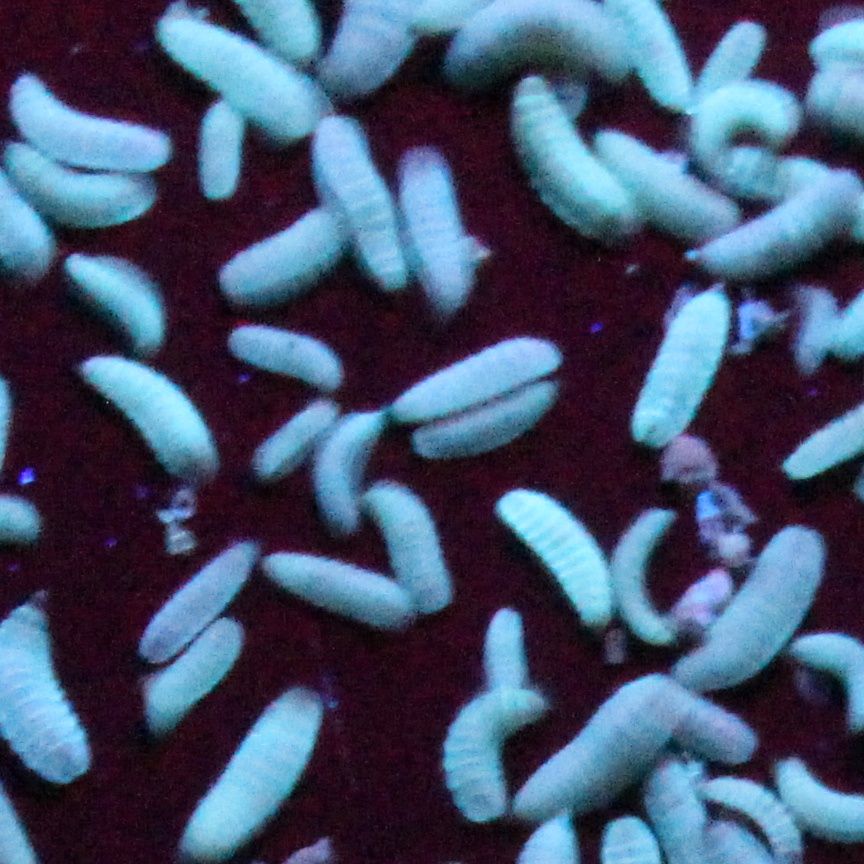larve: (180, 687, 323, 860), (513, 677, 680, 825), (688, 520, 829, 681), (160, 13, 327, 136), (517, 74, 621, 238), (88, 354, 219, 481), (698, 170, 848, 278), (490, 485, 613, 615), (388, 334, 566, 421), (141, 536, 260, 658), (441, 683, 545, 821), (639, 291, 733, 442), (317, 117, 401, 281), (409, 152, 496, 307), (594, 134, 725, 234), (17, 77, 170, 162), (11, 142, 154, 228), (268, 554, 417, 628), (145, 625, 243, 734), (452, 11, 629, 66), (413, 387, 558, 454), (223, 213, 341, 295), (68, 252, 164, 352), (378, 489, 456, 607), (691, 77, 795, 163), (221, 323, 345, 387), (623, 505, 672, 648), (256, 395, 329, 477), (327, 417, 376, 532), (199, 97, 252, 199), (688, 701, 762, 760)
